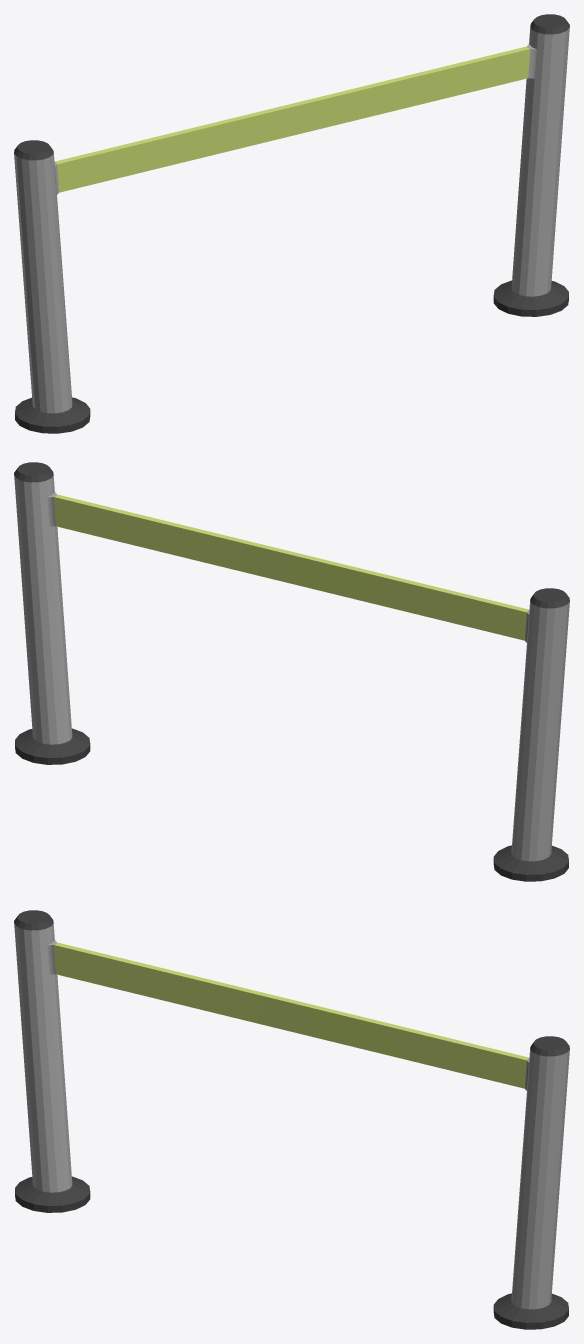
File: AirportFence.fbx
3 views of the same model, one above another, from view 1: azimuth 30°, elevation 25°; view 2: azimuth 150°, elevation 25°; view 3: azimuth 330°, elevation 25° (orthographic).
Parts seen in each view (by area): view 1: AirportFence; view 2: AirportFence; view 3: AirportFence.
Boxes of the visible parts, bbox=[...] form: AirportFence: bbox=[14, 14, 569, 433]; AirportFence: bbox=[14, 462, 569, 881]; AirportFence: bbox=[14, 910, 569, 1329].
Size of the model in its own units: 11.62 by 5.54 by 1.39.
